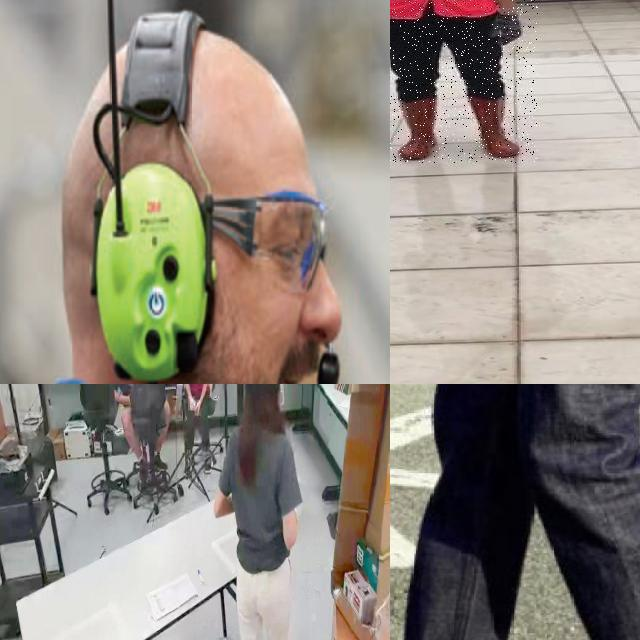Ear-protection: (55, 17, 347, 384)
boots: (468, 95, 522, 159), (392, 95, 442, 161)
hand_noglove: (188, 396, 196, 412), (195, 399, 201, 416)
person: (390, 0, 538, 163), (218, 384, 309, 640), (176, 384, 220, 487), (109, 384, 150, 477)
